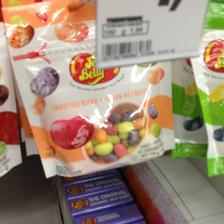Suessigkeit: (3, 2, 169, 174), (178, 1, 223, 167)
